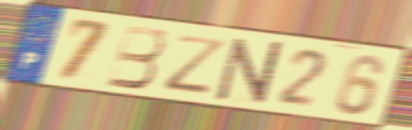2: (273, 48, 333, 110)
6: (334, 52, 385, 116)
7: (57, 16, 116, 83)
B: (104, 23, 168, 91)
N: (213, 37, 285, 106)
Z: (162, 33, 231, 96)
